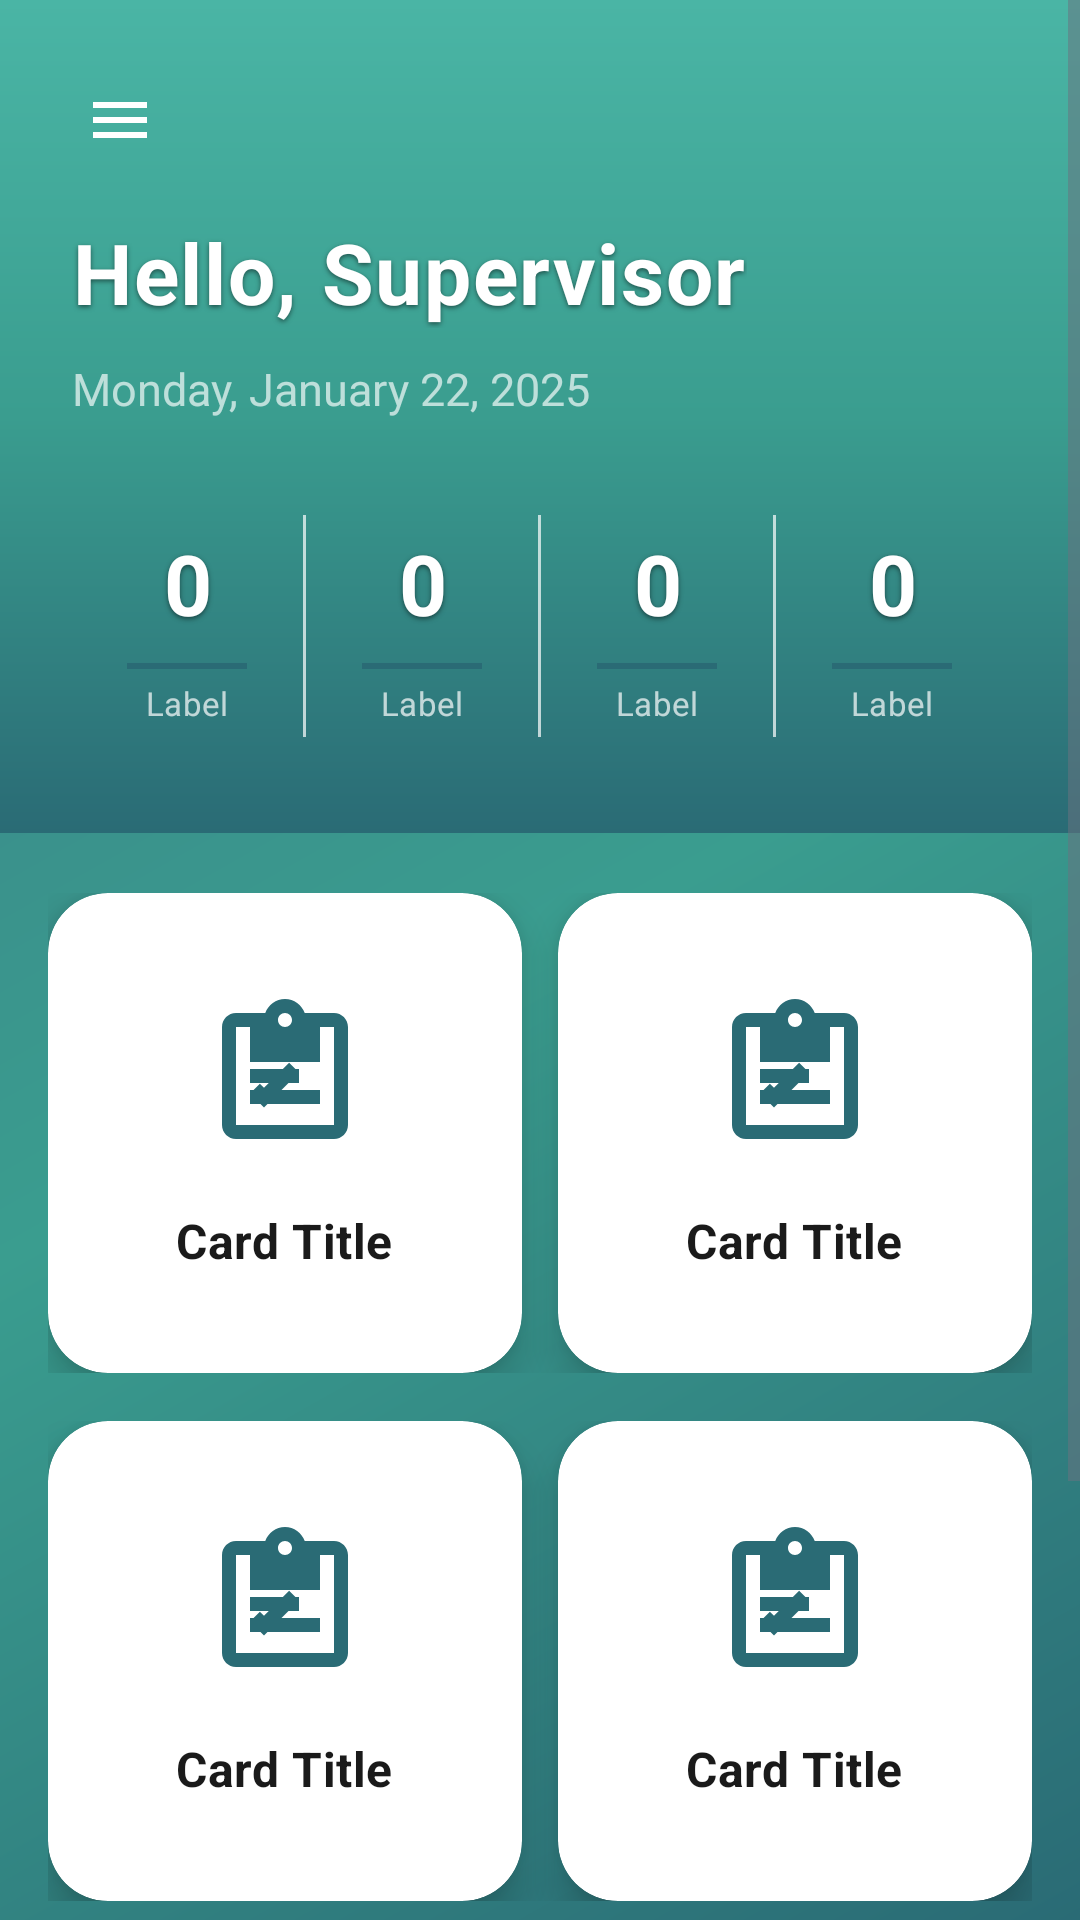

Screen size 1080x1920. Icon name, then its center in pixels as point (x, y):
Menu: point (120, 120)
